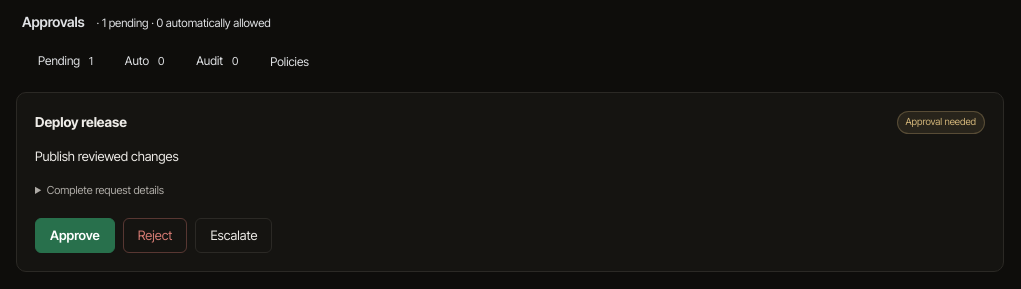
Test: GatingInboxPanel shared resource › does not manufacture policy counts or rules from an empty audit
This screenshot has width=1021, height=289.
Click the button "Policies" at (290, 62), box [254,44,325,80]
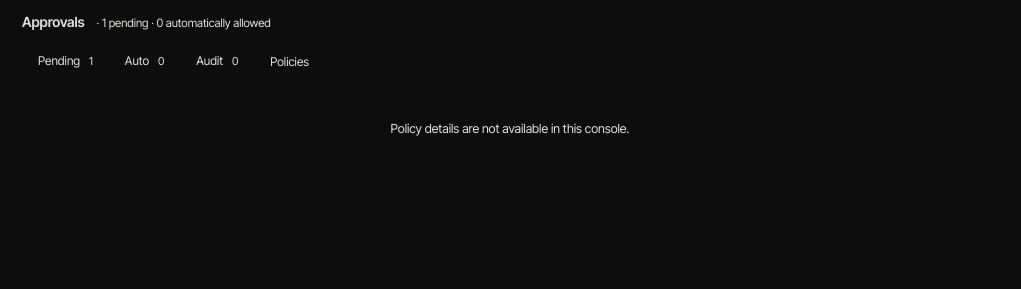
Check: the message reads "Policy details are not available in this console.", box [391,121,629,136]
